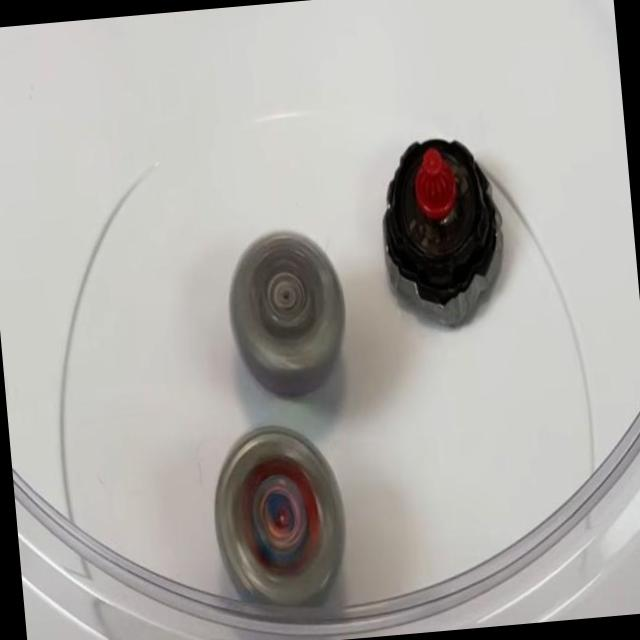Beyblade: (372, 131, 510, 332), (208, 420, 352, 612), (222, 227, 353, 406)
